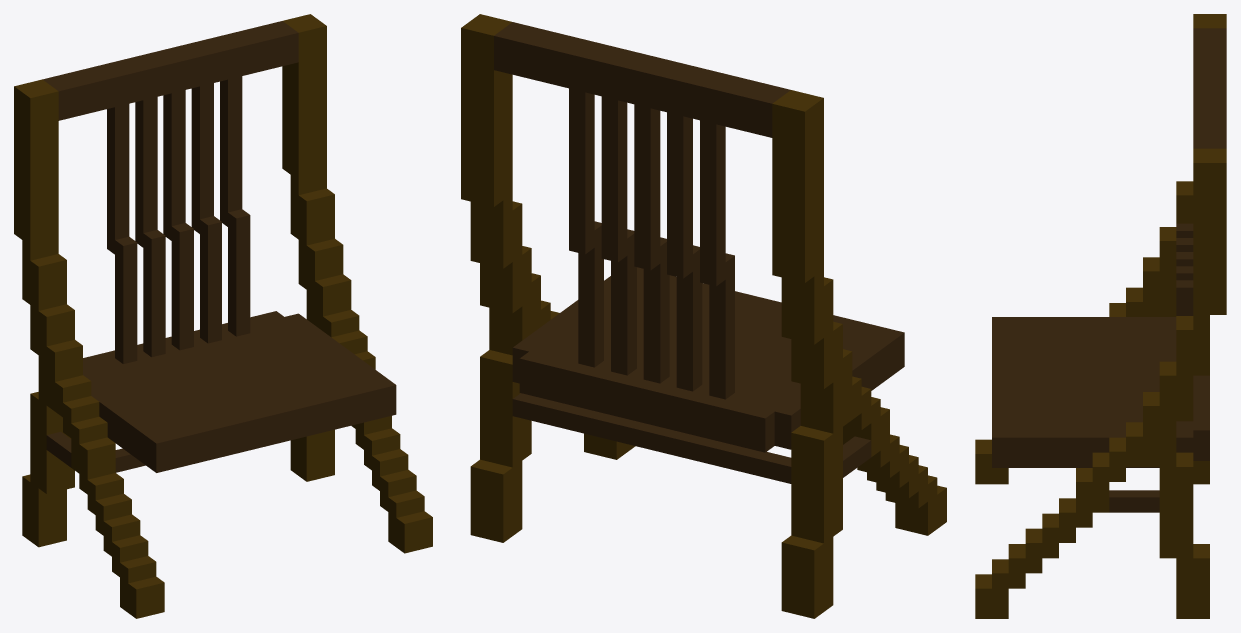
File: Cafe_Chair2.fbx
3 views of the same model, side by side, from view 1: azimuth 30°, elevation 25°; view 2: azimuth 150°, elevation 25°; view 3: azimuth 270°, elevation 25° (orthographic). The views are drawn at different scales.
Parts seen in each view (by area): view 1: Cafe Chair2; view 2: Cafe Chair2; view 3: Cafe Chair2.
Part boxes in pixels (x1,y1,x2,y2): Cafe Chair2: [14, 14, 432, 618]; Cafe Chair2: [461, 14, 946, 618]; Cafe Chair2: [975, 14, 1226, 618].
Size of the model in its own units: 2.1 by 3 by 1.5.
